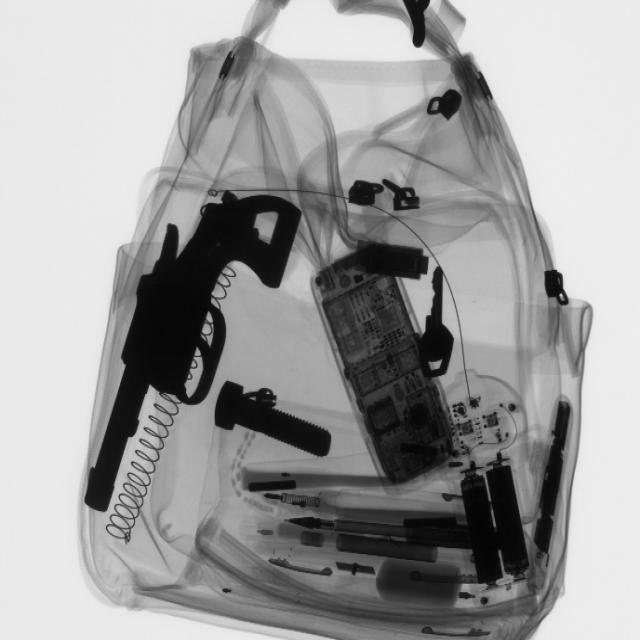GUN: (85, 185, 299, 522)
